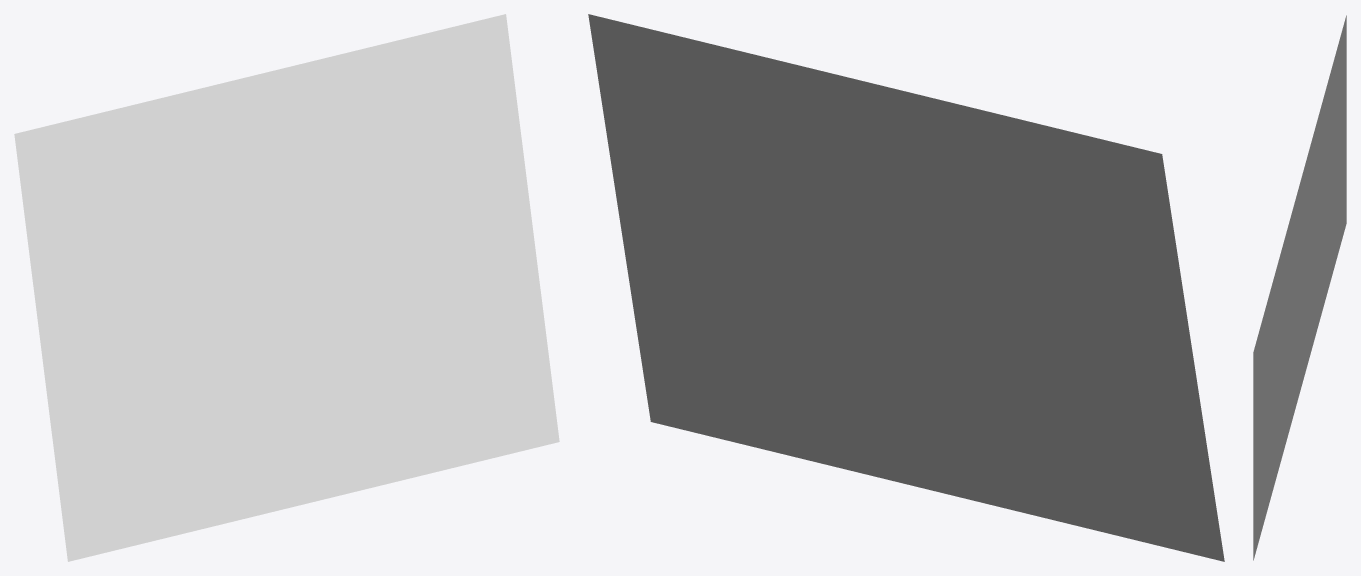
Rendered from primary_123.glb.
3 renders of one model, left to right at view 1: azimuth 30°, elevation 25°; view 2: azimuth 150°, elevation 25°; view 3: azimuth 270°, elevation 25°, orthographic. The views are drawn at different scales.
Visible parts, largest first — view 1: Object; view 2: Object; view 3: Object.
Boxes of the visible parts, x1,y1,x2,y2 form: Object: [14, 14, 559, 561]; Object: [588, 14, 1224, 561]; Object: [1253, 15, 1346, 560].
Bounding box in the file's own units: 1.83 × 1.38 × 0.3449.
Materials: 1 (1 with a texture image).
